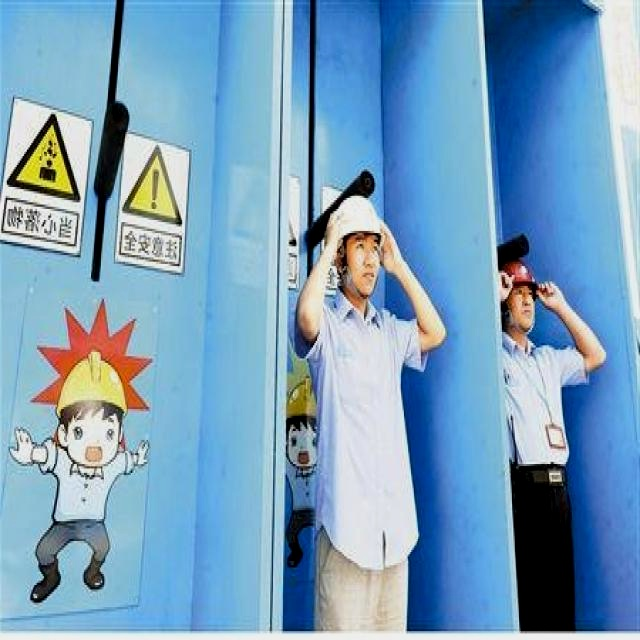Con_Casco: (333, 198, 382, 298), (501, 260, 539, 335)
